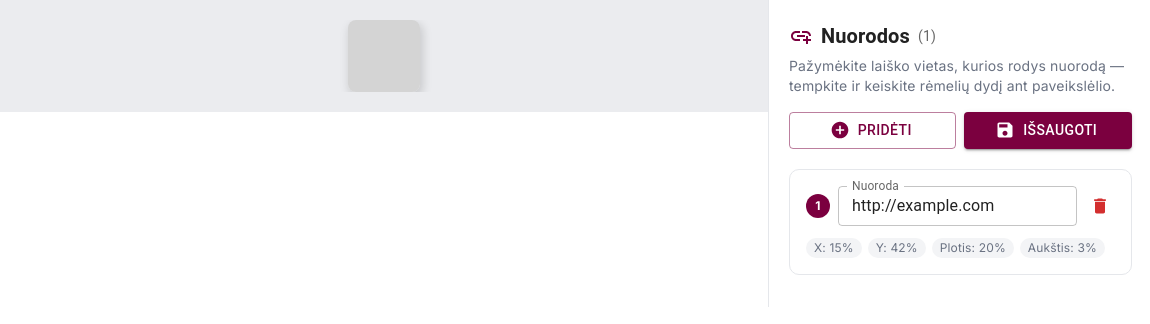
Scenario: InteractiveImageEditor — adding, selecting, deleting, editing › deleting the last area brings the empty state back
Expected: the heading "Nuorodos" is shown, [821,20,910,52]
Click the button named "Ištrinti nuorodą Nr. 1".
click(1100, 206)  # box [1085,190,1115,220]
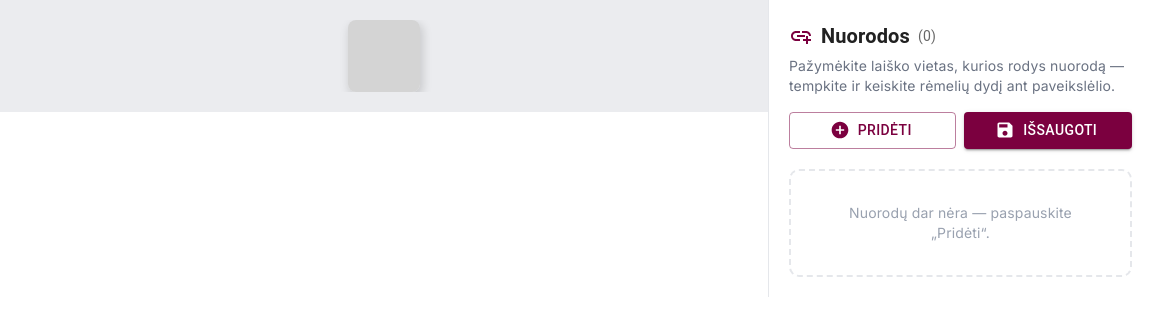
Expected: the text "Nuorodų dar nėra — paspauskite „Pridėti“." is shown, [789,168,1132,276]
Expected: the text "(0)" is shown, [918,26,936,46]
